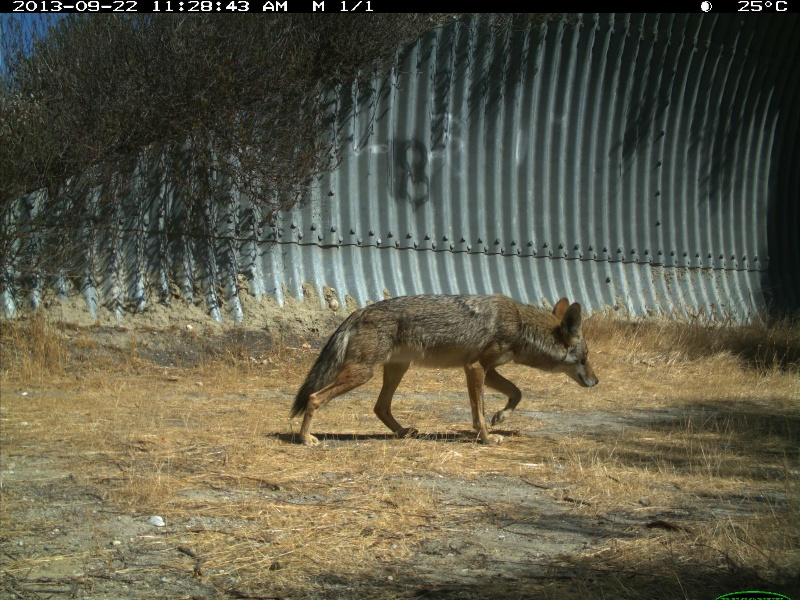coyote: (288, 291, 602, 449)
